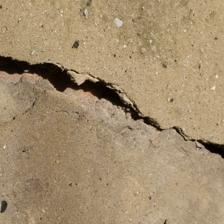Crack: (5, 54, 162, 137), (164, 120, 224, 160)
